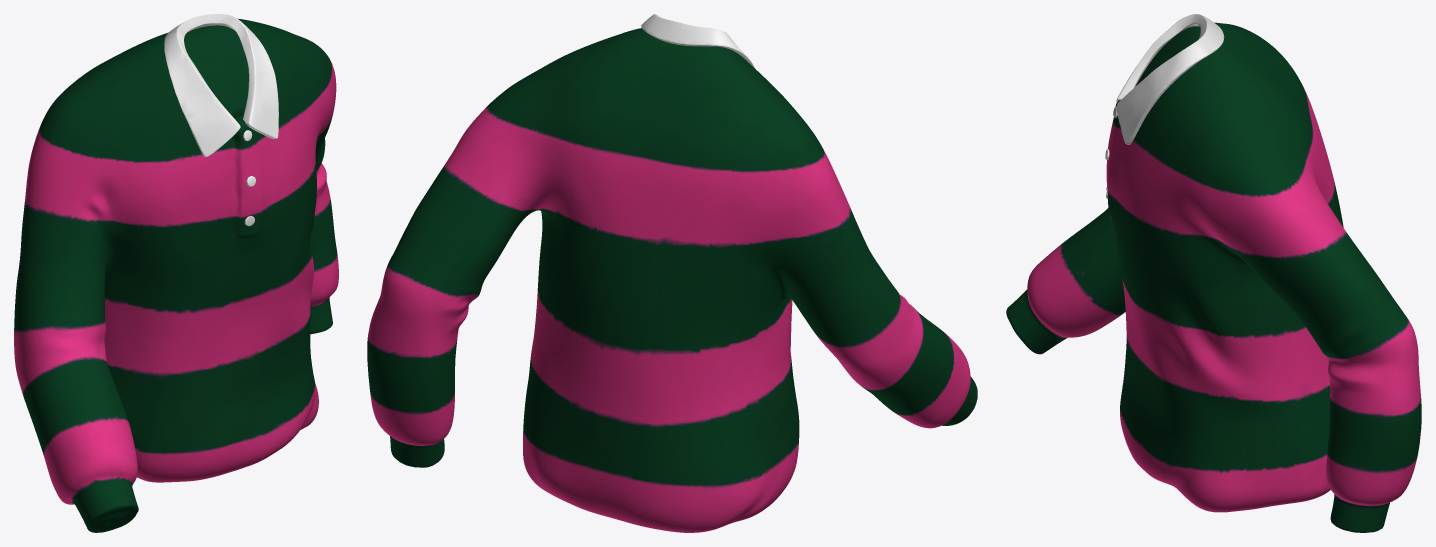
The model's file is Male_RugbyPoloShirt_PinkGreen.glb.
3 renders of one model, left to right at view 1: azimuth 30°, elevation 25°; view 2: azimuth 150°, elevation 25°; view 3: azimuth 270°, elevation 25°, orthographic.
Visible parts, largest first — view 1: POLOSHIRT - RUGBY PINKGREEN 02; view 2: POLOSHIRT - RUGBY PINKGREEN 02; view 3: POLOSHIRT - RUGBY PINKGREEN 02.
Boxes of the visible parts, x1=… form: POLOSHIRT - RUGBY PINKGREEN 02: x1=14, y1=14, x2=338, y2=532; POLOSHIRT - RUGBY PINKGREEN 02: x1=367, y1=14, x2=977, y2=532; POLOSHIRT - RUGBY PINKGREEN 02: x1=1006, y1=14, x2=1421, y2=532.
Bounding box in the file's own units: 1.01 × 1 × 0.8554.
Materials: 1 (1 with a texture image).
